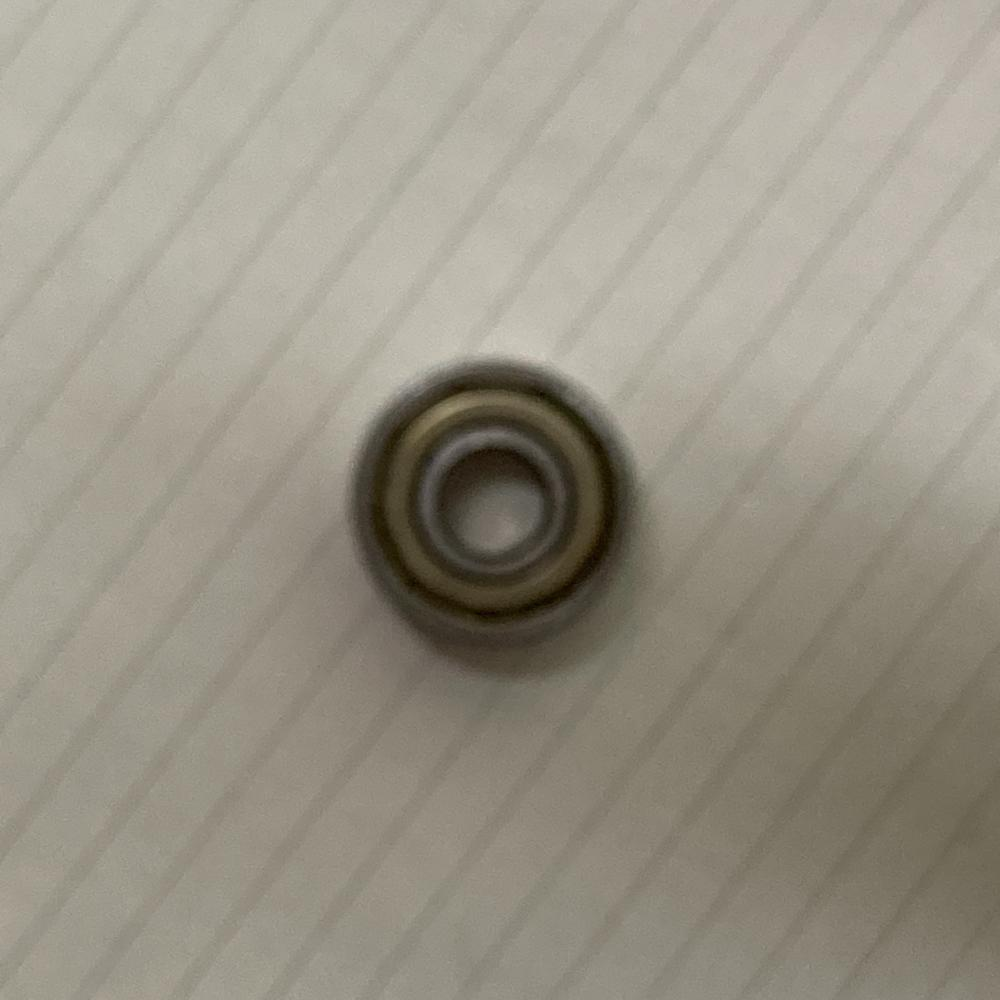ball_bearing: (344, 349, 638, 649)
